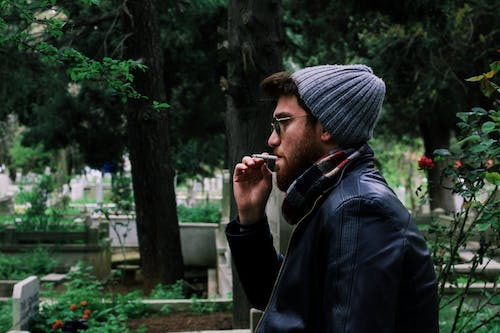cigarette: (251, 150, 280, 162)
